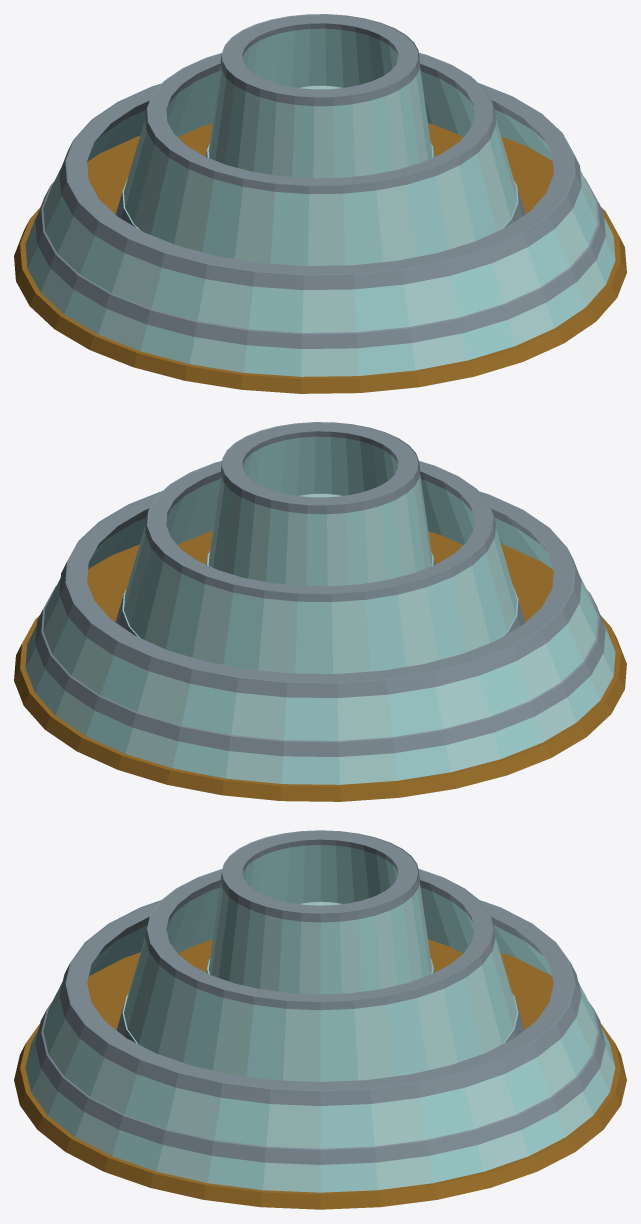
File: chandelier.fbx
3 renders of one model, top to bottom at view 1: azimuth 30°, elevation 25°; view 2: azimuth 150°, elevation 25°; view 3: azimuth 270°, elevation 25°, orthographic.
Visible parts, largest first — view 1: Cylinder; view 2: Cylinder; view 3: Cylinder.
Boxes of the visible parts, left/top/right/bottom form: Cylinder: left=14, top=14, right=626, bottom=393; Cylinder: left=14, top=422, right=626, bottom=801; Cylinder: left=14, top=830, right=626, bottom=1209.
Bounding box in the file's own units: 219 × 82 × 219.
